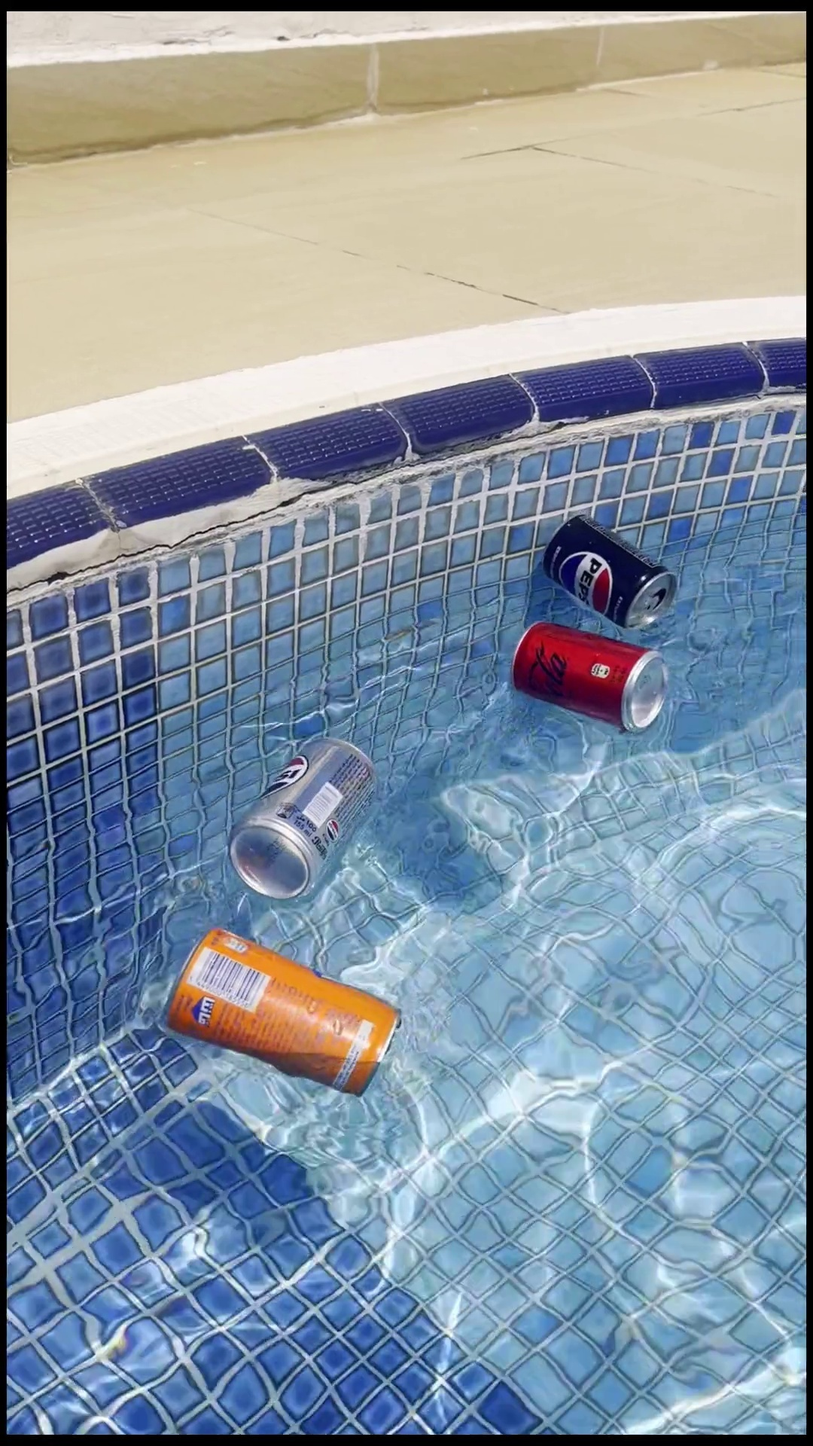debris: (152, 868, 405, 1121), (221, 687, 379, 929), (498, 587, 670, 755), (532, 482, 678, 648)
